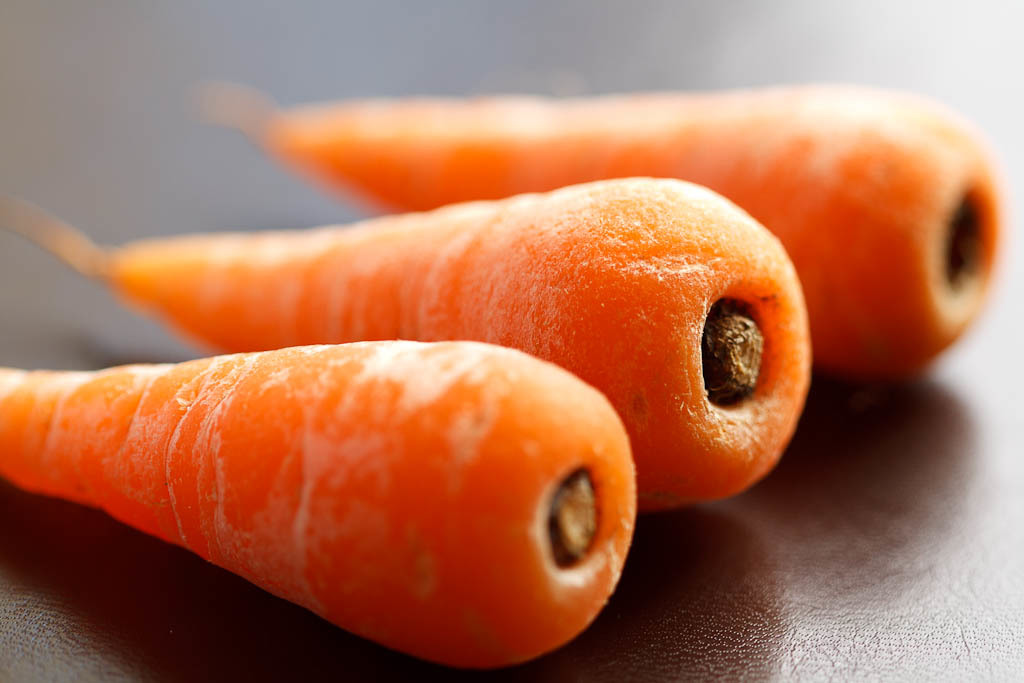Carrot: (0, 83, 1005, 667)
